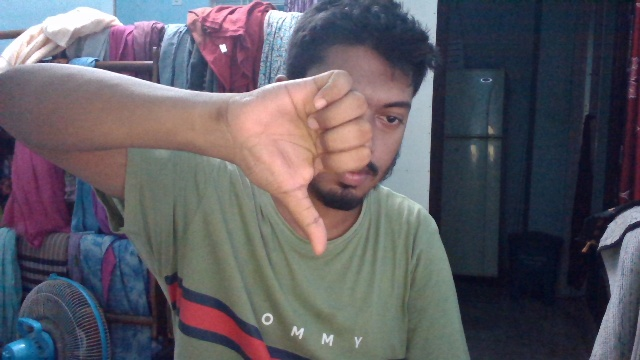no: (217, 74, 386, 255)
